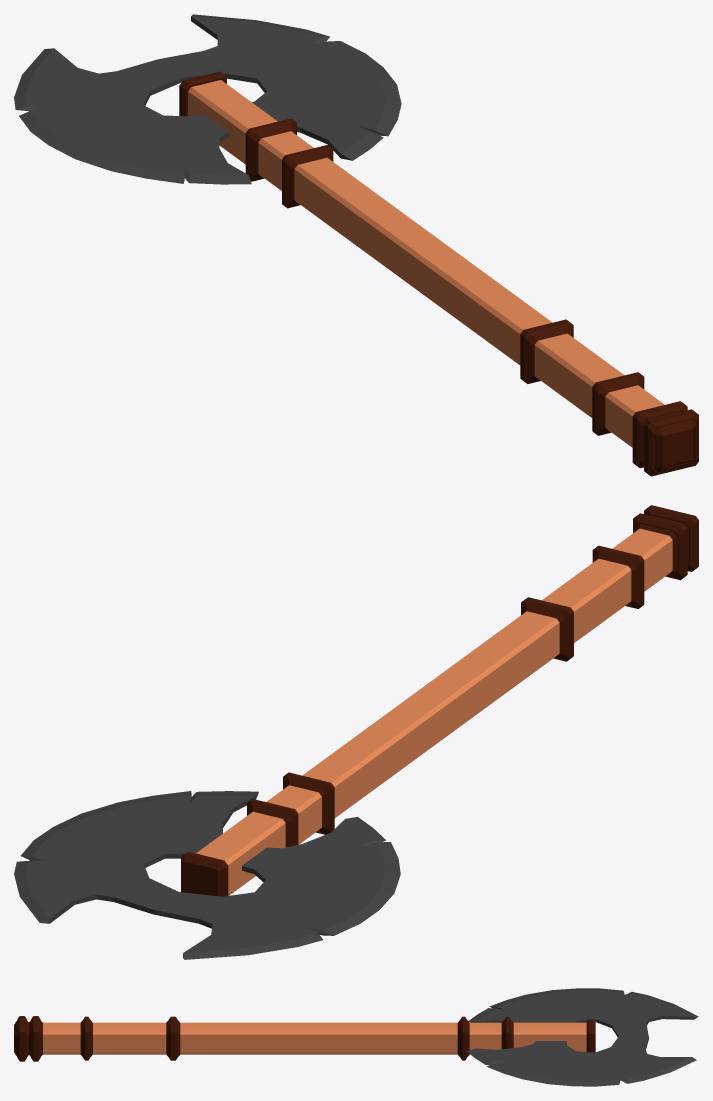
3 renders of one model, top to bottom at view 1: azimuth 30°, elevation 25°; view 2: azimuth 150°, elevation 25°; view 3: azimuth 270°, elevation 25°, orthographic. The views are drawn at different scales.
Parts seen in each view (by area): view 1: 38; view 2: 38; view 3: 38.
Part boxes in pixels (box(x1,y1,x2,y2)): 38: box(14, 14, 698, 476); 38: box(14, 505, 698, 959); 38: box(14, 988, 698, 1086).
Size of the model in its own units: 31.64 by 4.87 by 93.17.
